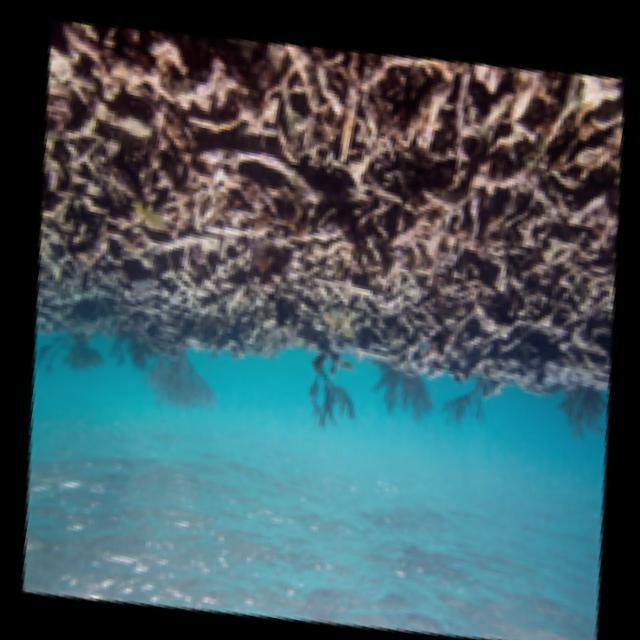Dead Coral: (358, 62, 640, 368), (255, 68, 545, 362), (30, 21, 299, 281)
